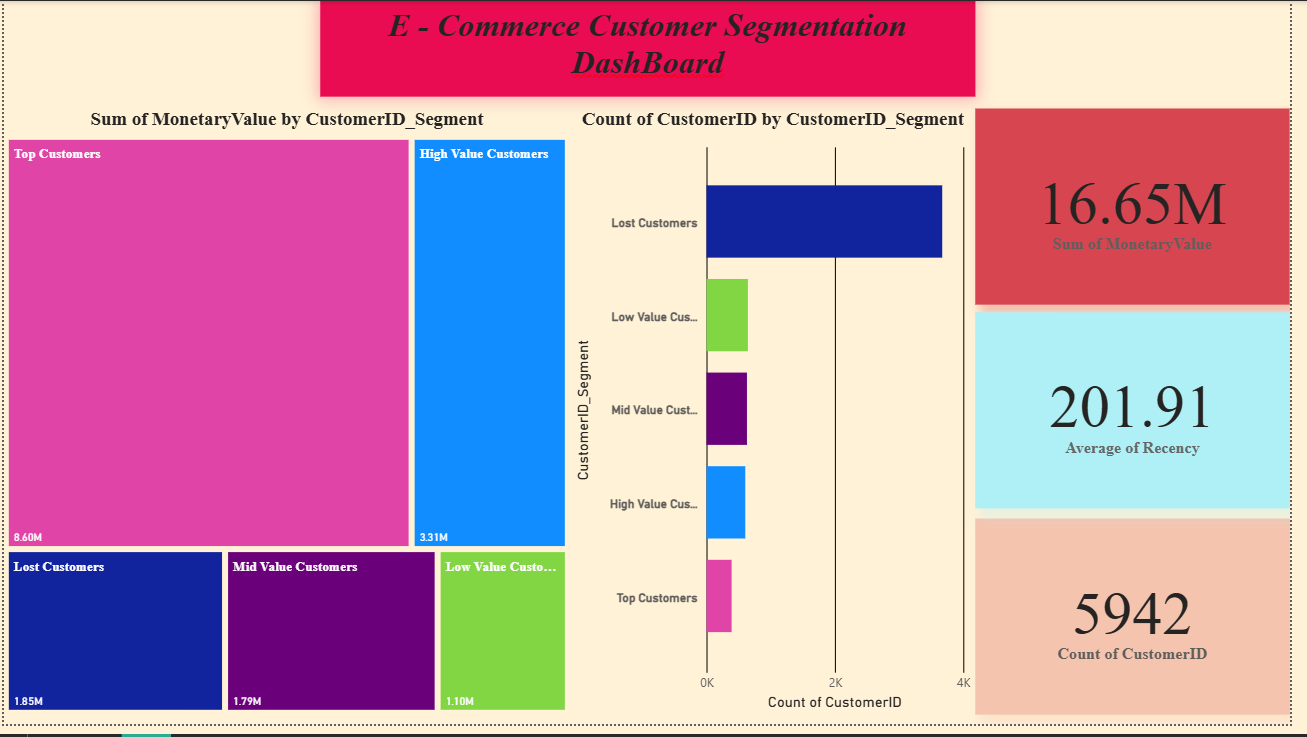

This screenshot's page, from the dashboard's own definition file:
{"tool":"powerbi","page":{"name":"Page 1","canvas":[1280,720],"ordinal":0},"visuals":[{"type":"barChart","fields":{"Category":["rfm_for_powerbi.CustomerID_Segment"],"Y":["Count(rfm_for_powerbi.CustomerID)"]},"box":[563.3,106.7,403.3,603.3],"z":0},{"type":"treemap","fields":{"Group":["rfm_for_powerbi.CustomerID_Segment"],"Values":["Sum(rfm_for_powerbi.MonetaryValue)"]},"box":[0,106.7,563.3,603.3],"z":1000},{"type":"card","fields":{"Values":["Count(rfm_for_powerbi.CustomerID)"]},"box":[966.7,515,313.3,195],"z":2000},{"type":"card","fields":{"Values":["Sum(rfm_for_powerbi.MonetaryValue)"]},"box":[966.7,106.7,313,195],"z":3000},{"type":"card","fields":{"Values":["Avg(rfm_for_powerbi.Recency)"]},"box":[966.7,310,313.3,195],"z":4000},{"type":"textbox","box":[315,0,651.7,95],"z":5000}]}

Visuals, with their boxes in screenshot pixels (x1, y1, x2, y2), scaled from the page's 1280x720 canvas onto the 1307x737 screenshot:
barChart - rfm_for_powerbi.CustomerID_Segment x Count(rfm_for_powerbi.CustomerID): x1=575 y1=109 x2=987 y2=727
treemap - rfm_for_powerbi.CustomerID_Segment x Sum(rfm_for_powerbi.MonetaryValue): x1=0 y1=109 x2=575 y2=727
card - Count(rfm_for_powerbi.CustomerID): x1=987 y1=527 x2=1306 y2=727
card - Sum(rfm_for_powerbi.MonetaryValue): x1=987 y1=109 x2=1306 y2=309
card - Avg(rfm_for_powerbi.Recency): x1=987 y1=317 x2=1306 y2=517
textbox: x1=322 y1=0 x2=987 y2=97
